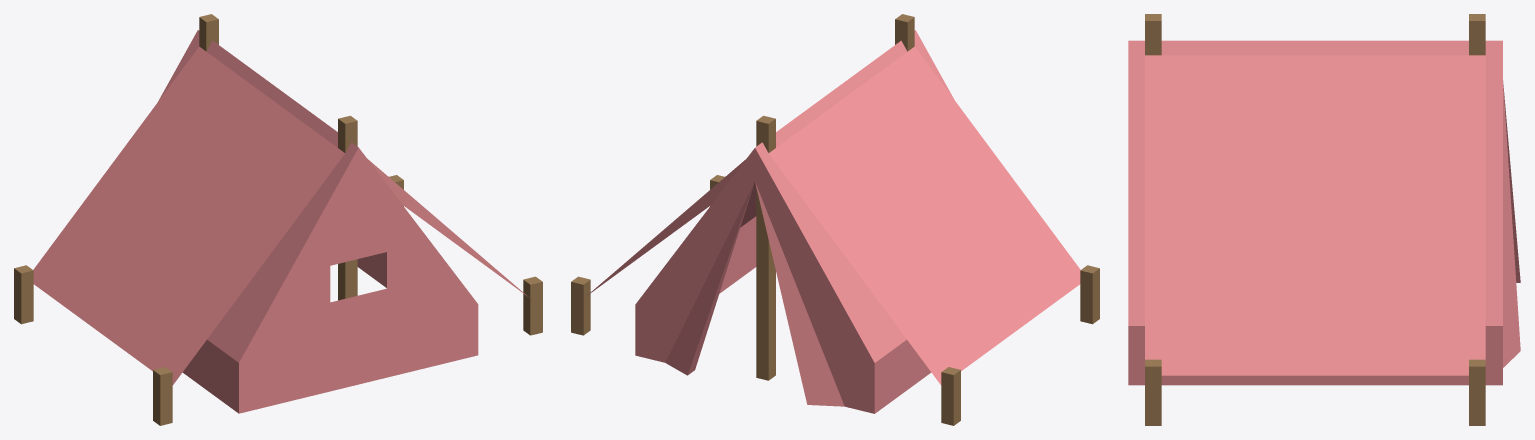
File: tent_detailedOpen.glb
3 renders of one model, left to right at view 1: azimuth 30°, elevation 25°; view 2: azimuth 150°, elevation 25°; view 3: azimuth 270°, elevation 25°, orthographic. The views are drawn at different scales.
Visible parts, largest first — view 1: tent_detailedOpen; view 2: tent_detailedOpen; view 3: tent_detailedOpen.
Boxes of the visible parts, left/top/right/bottom form: tent_detailedOpen: left=14, top=14, right=542, bottom=425; tent_detailedOpen: left=571, top=14, right=1099, bottom=425; tent_detailedOpen: left=1128, top=14, right=1520, bottom=425.
Size of the model in its own units: 0.8749 by 0.5611 by 0.6664.
